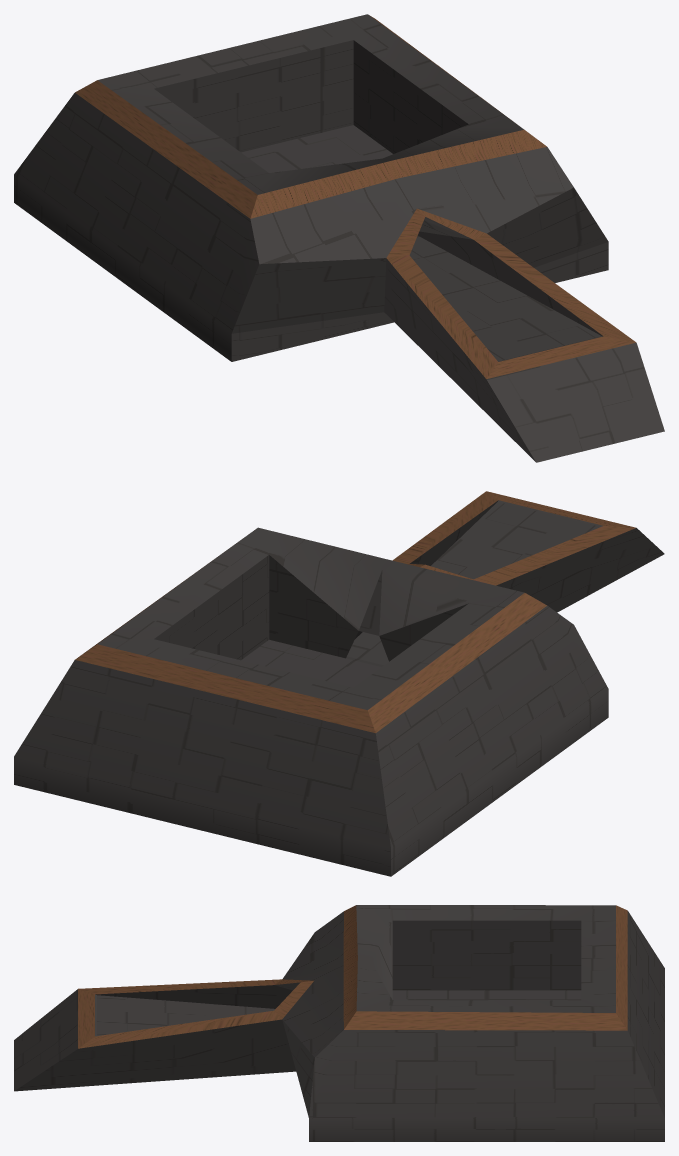
Rendered from Fuel Storage.fbx.
The picture shows the model from 3 angles, top to bottom: view 1: azimuth 30°, elevation 25°; view 2: azimuth 150°, elevation 25°; view 3: azimuth 270°, elevation 25°; orthographic projection. The views are drawn at different scales.
Parts seen in each view (by area): view 1: pCube1; view 2: pCube1; view 3: pCube1.
Boxes of the visible parts, x1,y1,x2,y2 form: pCube1: (14, 14, 664, 462); pCube1: (14, 491, 664, 876); pCube1: (14, 905, 664, 1141).
Size of the model in its own units: 5.55 by 1.87 by 10.14.
Materials: 2 (2 with a texture image).
